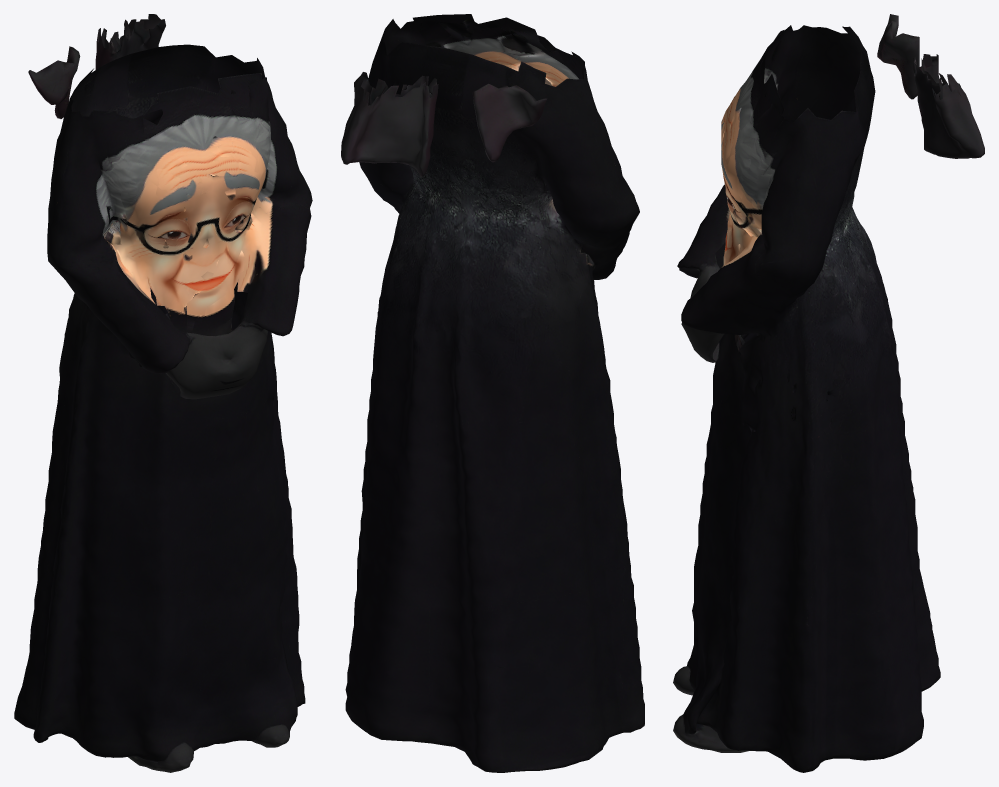
File: npc_widow.glb
3 views of the same model, side by side, from view 1: azimuth 30°, elevation 25°; view 2: azimuth 150°, elevation 25°; view 3: azimuth 270°, elevation 25° (orthographic). The views are drawn at different scales.
Size of the model in its own units: 0.591 by 1.37 by 0.5793.
Materials: 1 (1 with a texture image).
